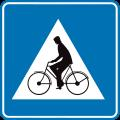Cycle Crossing: (14, 16, 107, 103)
